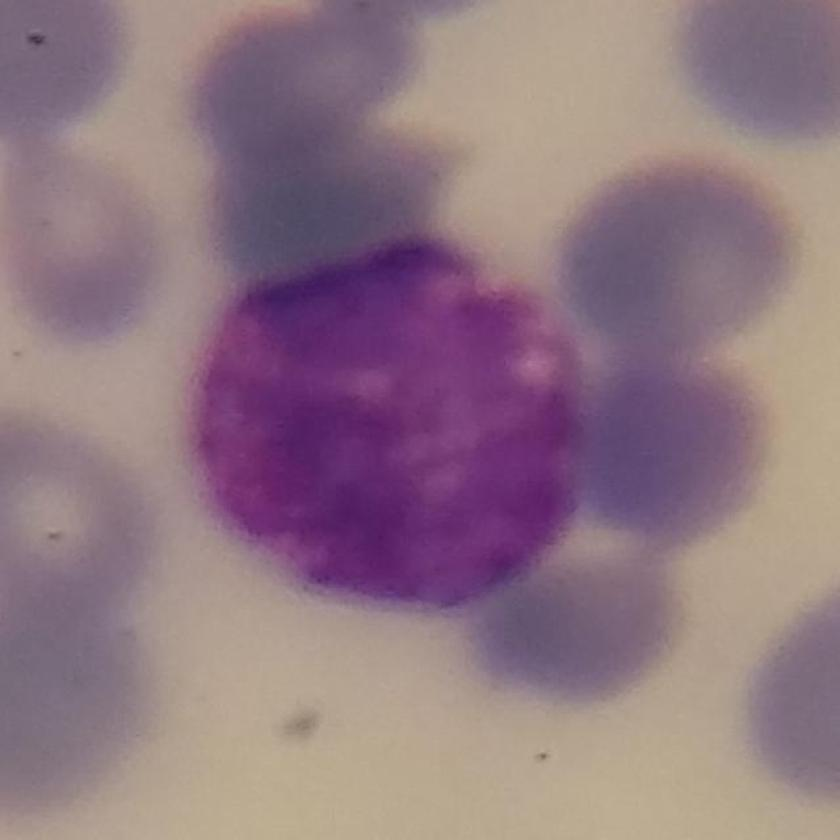basophil: (194, 222, 594, 630)
